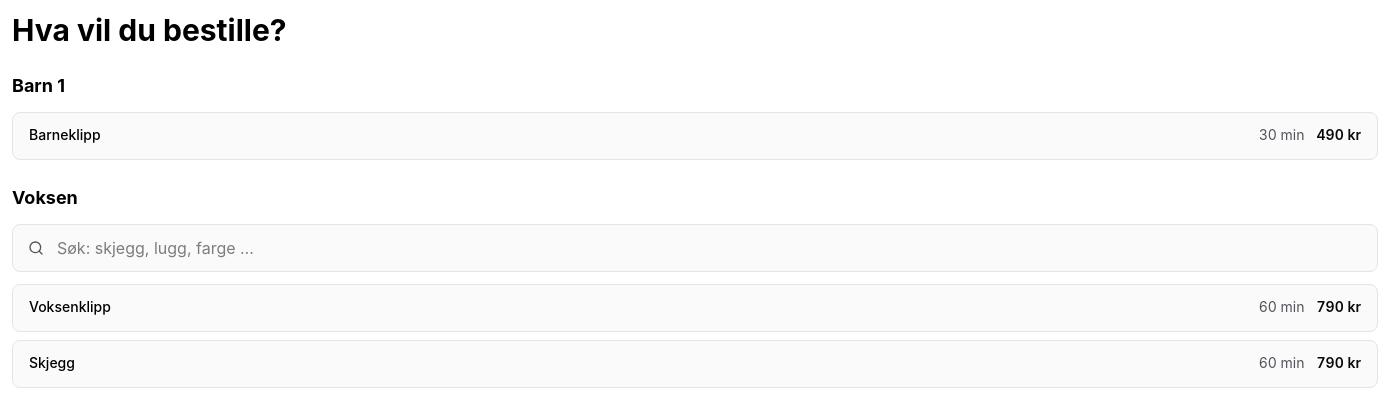
Scenario: ServiceScreen — search (`searchFor`) › searches only the grown-up’s list in a family
This screenshot has width=1390, height=405.
Type "skjegg" into the search field at (695, 248), box [12,224,1378,272]
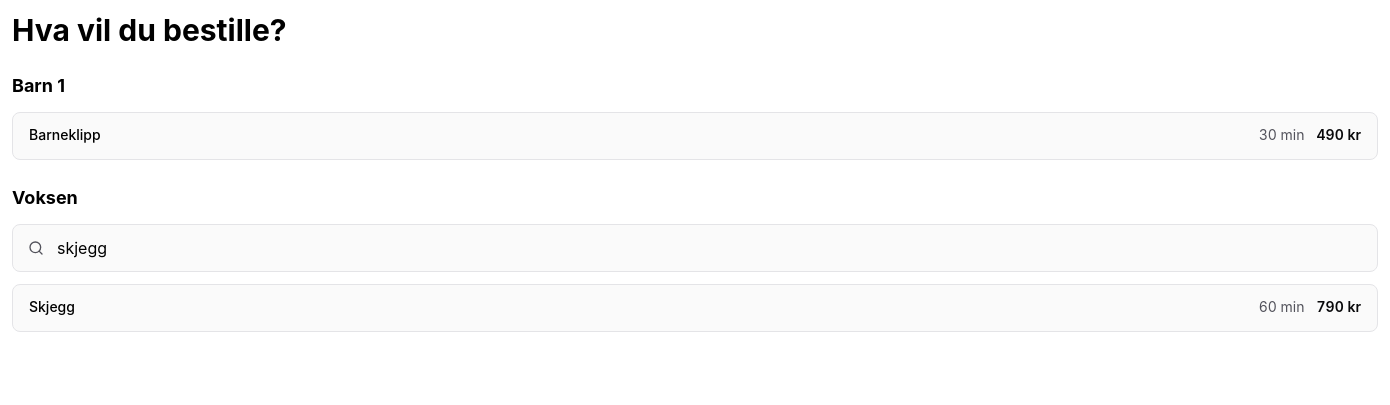
expect the text "Barneklipp" is shown: met, box [29,125,101,145]
expect the button "Voksenklipp" is gone: met
